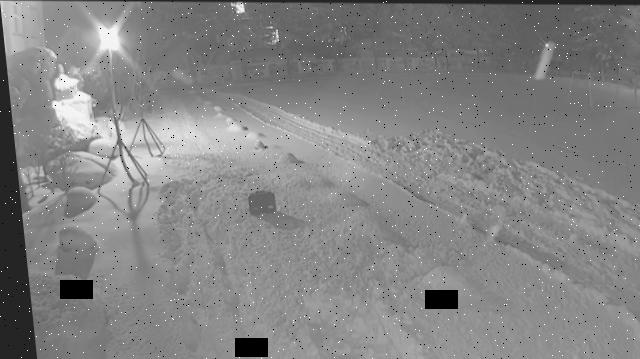bag: (242, 189, 272, 215)
